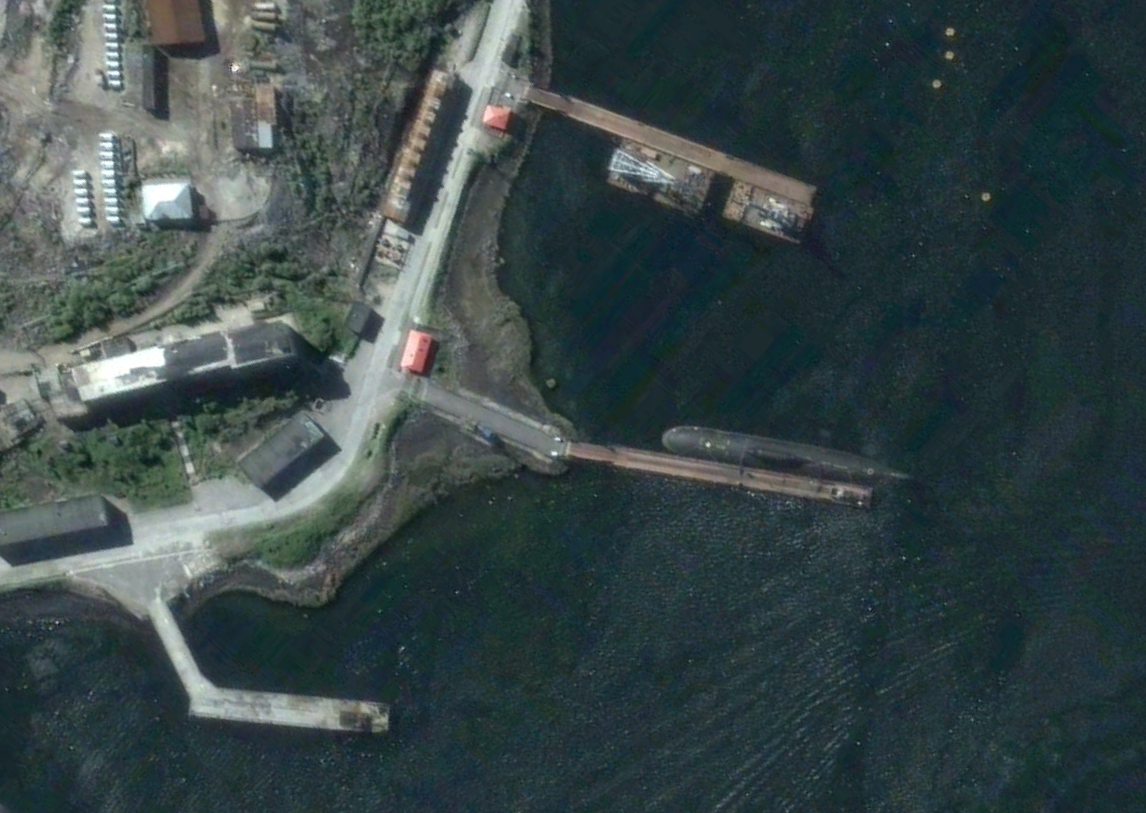submarine: (659, 424, 912, 482)
